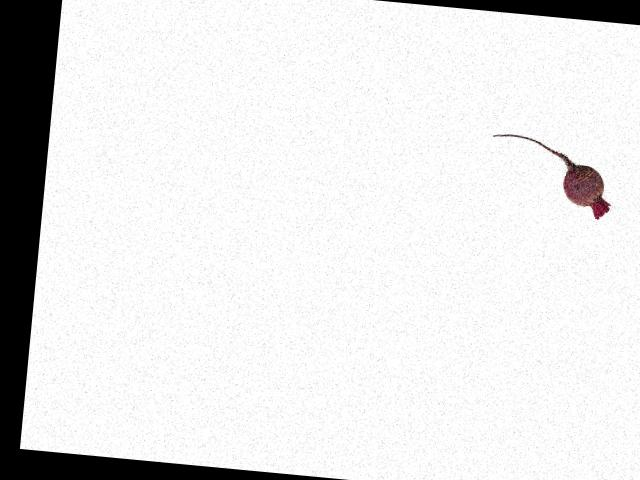beet: (484, 132, 615, 220)
